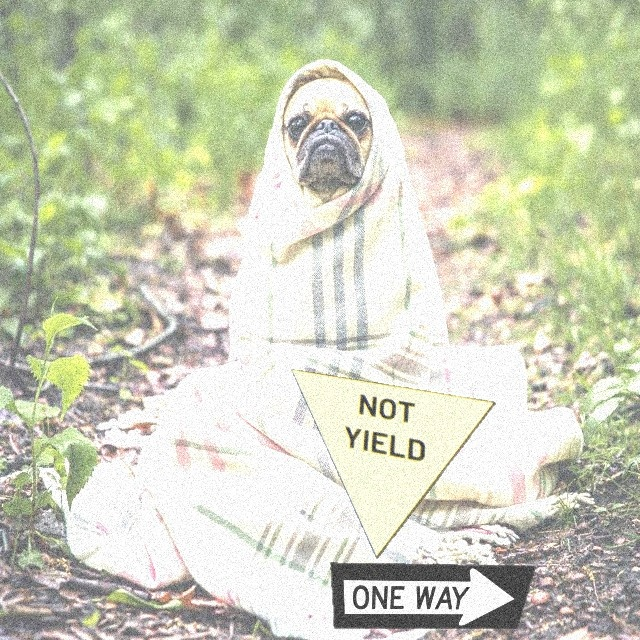NOT_YIELD: (290, 368, 496, 559)
ONE_WAY_ right: (330, 562, 536, 629)
